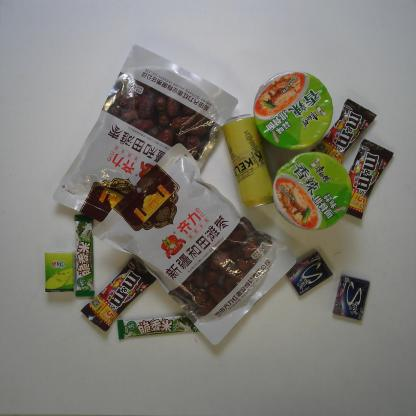Alcohol: (221, 112, 275, 210)
Chocolate: (80, 256, 156, 332), (309, 98, 377, 164), (345, 137, 395, 221), (115, 315, 200, 341), (74, 213, 96, 298)
Dried Food: (91, 142, 297, 346), (53, 43, 239, 223)
Gum: (284, 250, 333, 297), (332, 272, 372, 320)
Instant Noodles: (252, 70, 336, 152), (272, 150, 354, 232)
Tissue: (43, 250, 76, 294)
